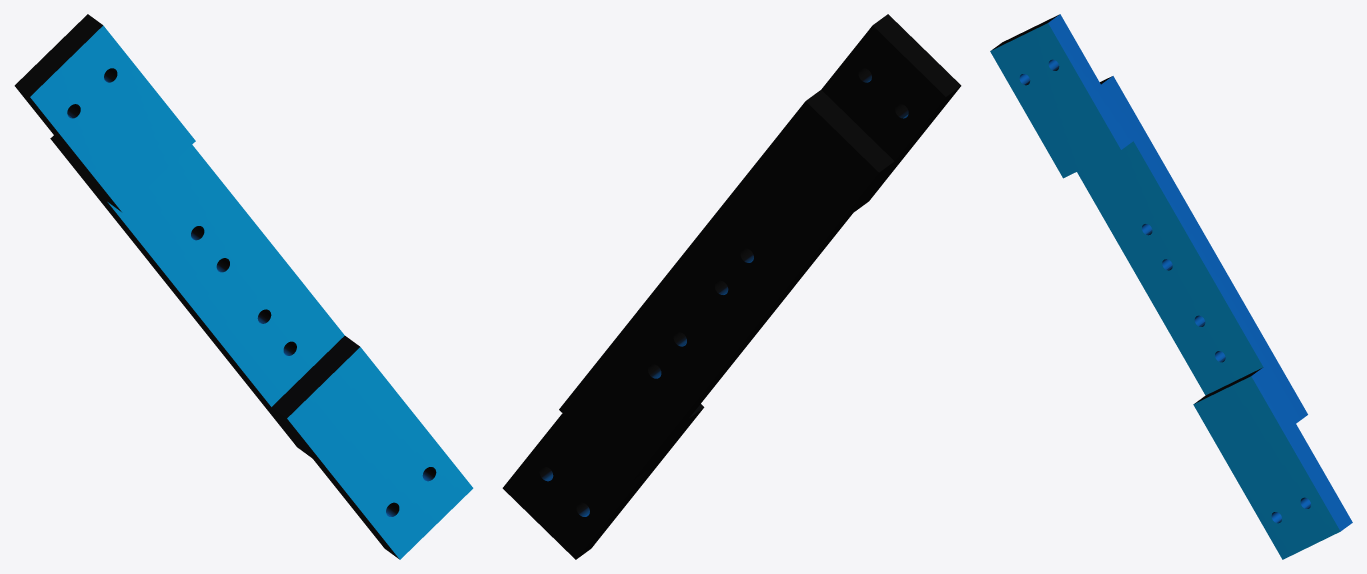
File: Step20.FBX
3 renders of one model, left to right at view 1: azimuth 30°, elevation 25°; view 2: azimuth 150°, elevation 25°; view 3: azimuth 330°, elevation 25°, orthographic. The views are drawn at different scales.
Parts seen in each view (by area): view 1: part44; view 2: part44; view 3: part44.
Boxes of the visible parts, x1,y1,x2,y2 form: part44: (14, 14, 473, 559); part44: (502, 14, 961, 559); part44: (990, 14, 1352, 559).
Size of the model in its own units: 31.43 by 41.09 by 3.81.
Materials: 1 (1 with a texture image).
